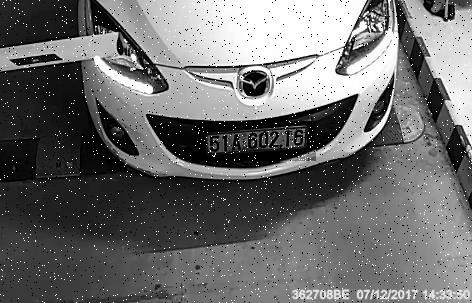License-plate: (195, 123, 317, 164)
